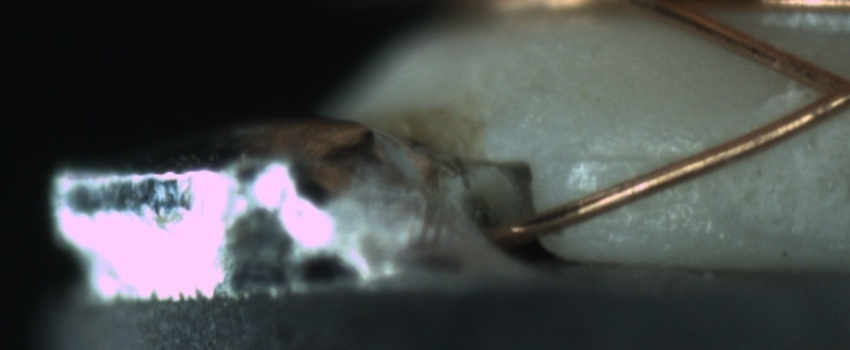CL: (781, 52, 849, 124)
DL: (566, 124, 697, 188)
